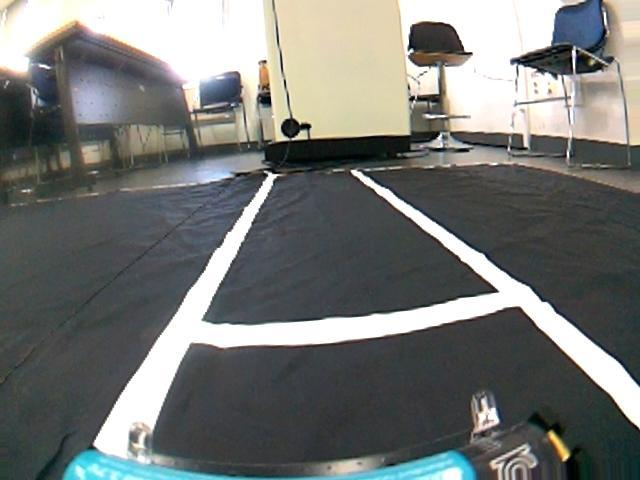straight: (0, 155, 640, 480)
